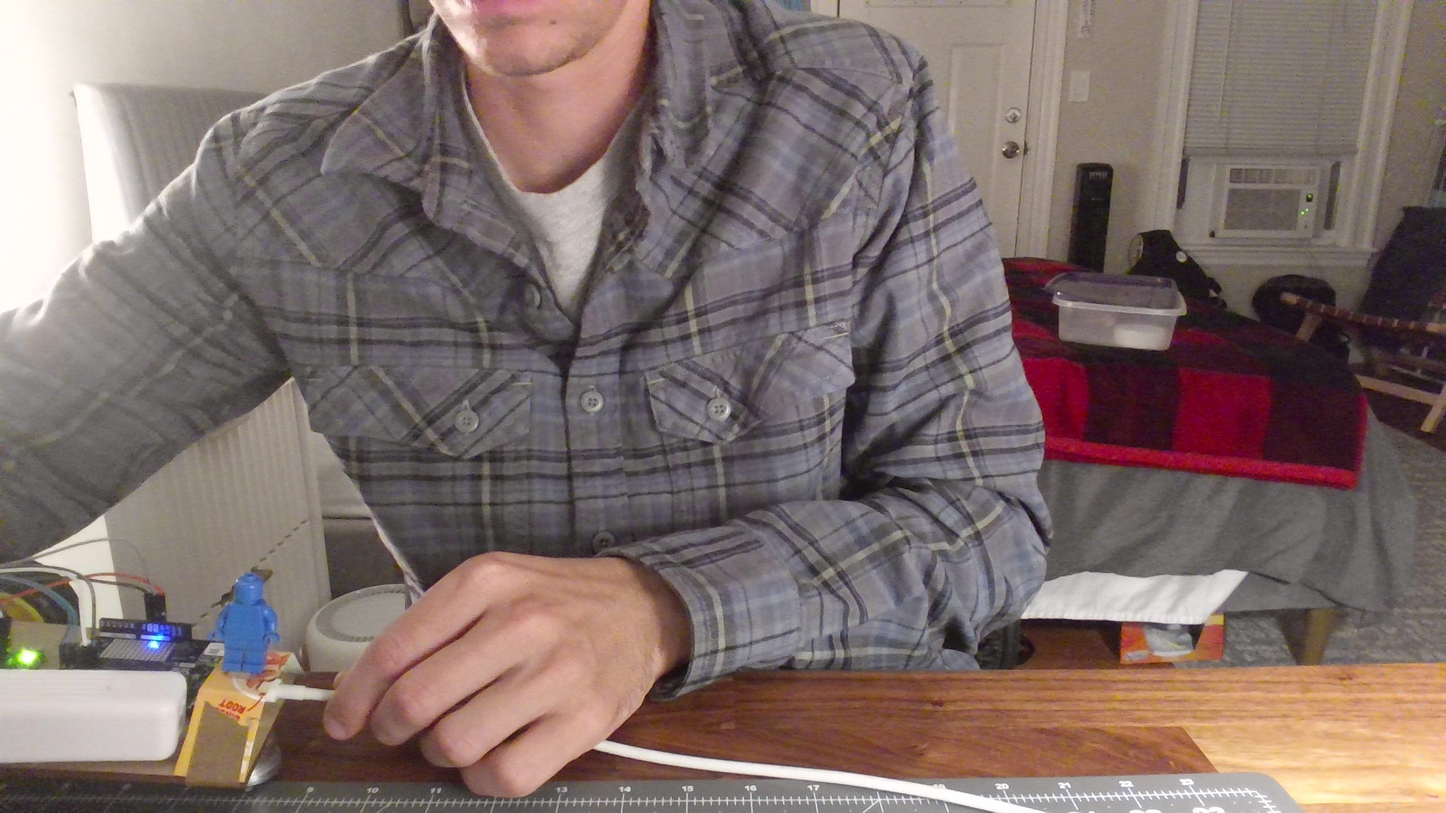Training-dataset-2: (200, 566, 313, 694)
